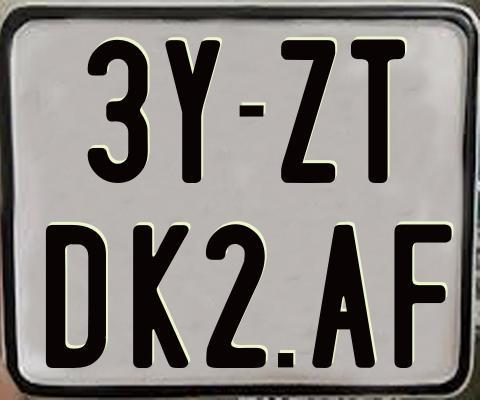2: (204, 221, 265, 371)
3: (84, 38, 148, 183)
A: (312, 225, 375, 368)
D: (45, 225, 106, 369)
F: (394, 224, 454, 373)
K: (130, 225, 190, 370)
T: (349, 39, 409, 186)
Y: (163, 40, 219, 189)
Z: (280, 37, 338, 180)
